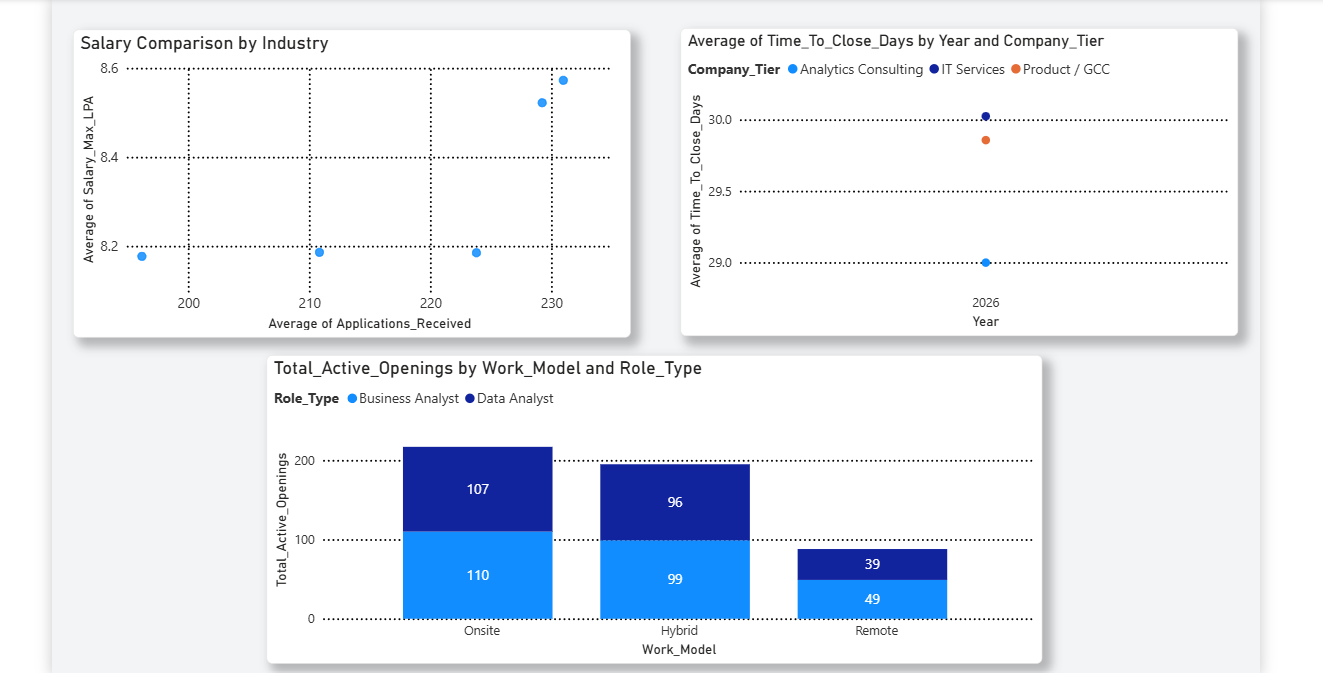

The dashboard page shown, as its layout file describes it:
{"tool":"powerbi","page":{"name":"Hiring Velocity & Competition","canvas":[1280,720],"ordinal":2},"visuals":[{"type":"scatterChart","title":"Salary Comparison by Industry","fields":{"X":["Avg(advanced_market_analysis_2026.Applications_Received)"],"Y":["Avg(advanced_market_analysis_2026.Salary_Max_LPA)"],"Category":["advanced_market_analysis_2026.Industry_Domain"]},"box":[22.7,34,591.5,326.9],"z":0},{"type":"lineChart","fields":{"Category":["advanced_market_analysis_2026.Job_Posting_Date.Variation.Date Hierarchy.Year","advanced_market_analysis_2026.Job_Posting_Date.Variation.Date Hierarchy.Quarter","advanced_market_analysis_2026.Job_Posting_Date.Variation.Date Hierarchy.Month","advanced_market_analysis_2026.Job_Posting_Date.Variation.Date Hierarchy.Day"],"Y":["Avg(advanced_market_analysis_2026.Time_To_Close_Days)"],"Series":["advanced_market_analysis_2026.Company_Tier"]},"box":[667.1,32.1,591.5,326.9],"z":1000},{"type":"columnChart","fields":{"Category":["advanced_market_analysis_2026.Work_Model"],"Y":["_Calculated Measures.Total_Active_Openings"],"Series":["advanced_market_analysis_2026.Role_Type"]},"box":[227.5,378.6,822.3,327.7],"z":2000}]}

Visuals, with their boxes on the page's 1280x720 design canvas (x1, y1, x2, y2). These are canvas units, not pixel positions in the 1323x673 screenshot, which may show the page scaled, cropped or inside an application window:
"Salary Comparison by Industry" scatterChart: left=23, top=34, right=614, bottom=361
lineChart - advanced_market_analysis_2026.Job_Posting_Date.Variation.Date Hierarchy.Year x advanced_market_analysis_2026.Job_Posting_Date.Variation.Date Hierarchy.Quarter: left=667, top=32, right=1259, bottom=359
columnChart - advanced_market_analysis_2026.Work_Model x _Calculated Measures.Total_Active_Openings: left=228, top=379, right=1050, bottom=706
